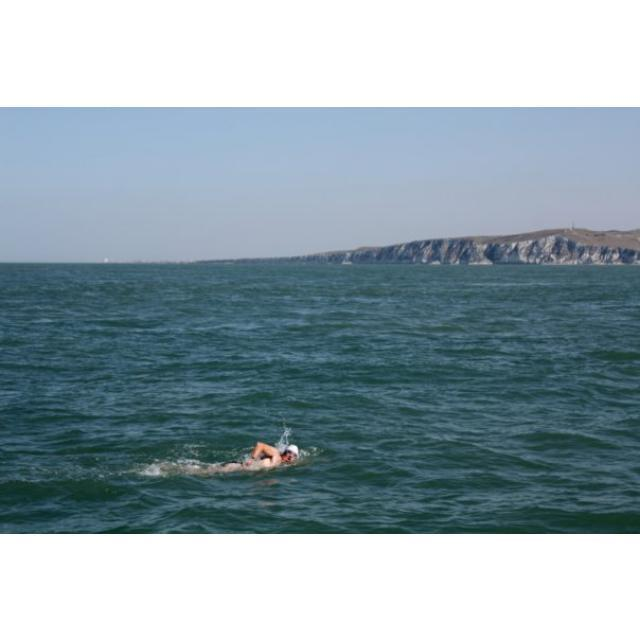human: (237, 440, 302, 473)
